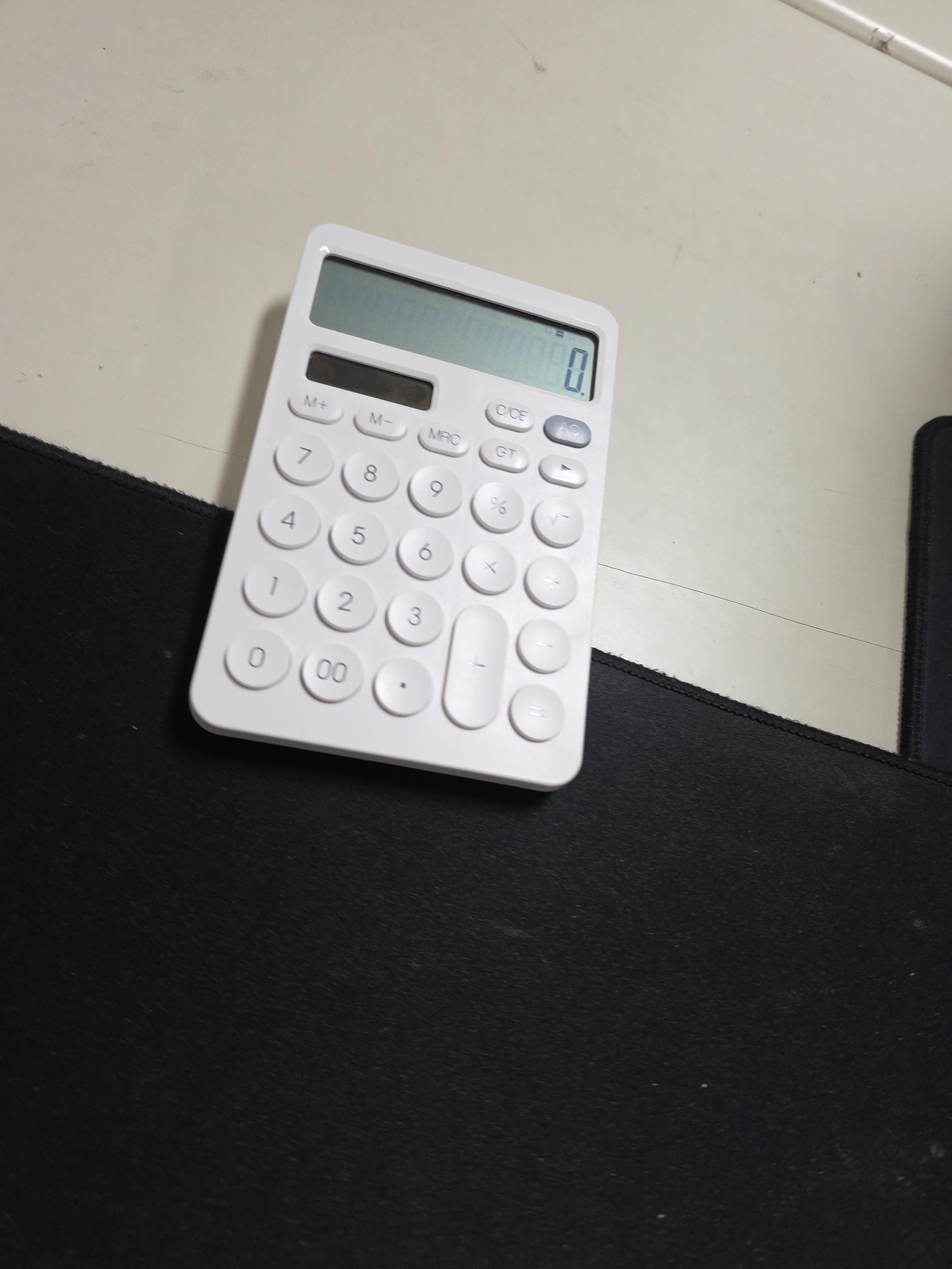calculator: (189, 223, 620, 792)
